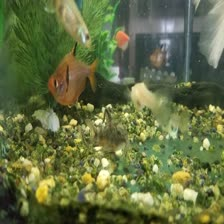Guppy: (39, 0, 100, 45), (129, 80, 177, 119)
Kiros: (81, 104, 127, 155)
Plano: (110, 26, 132, 57)
Transparente: (45, 49, 109, 105)
